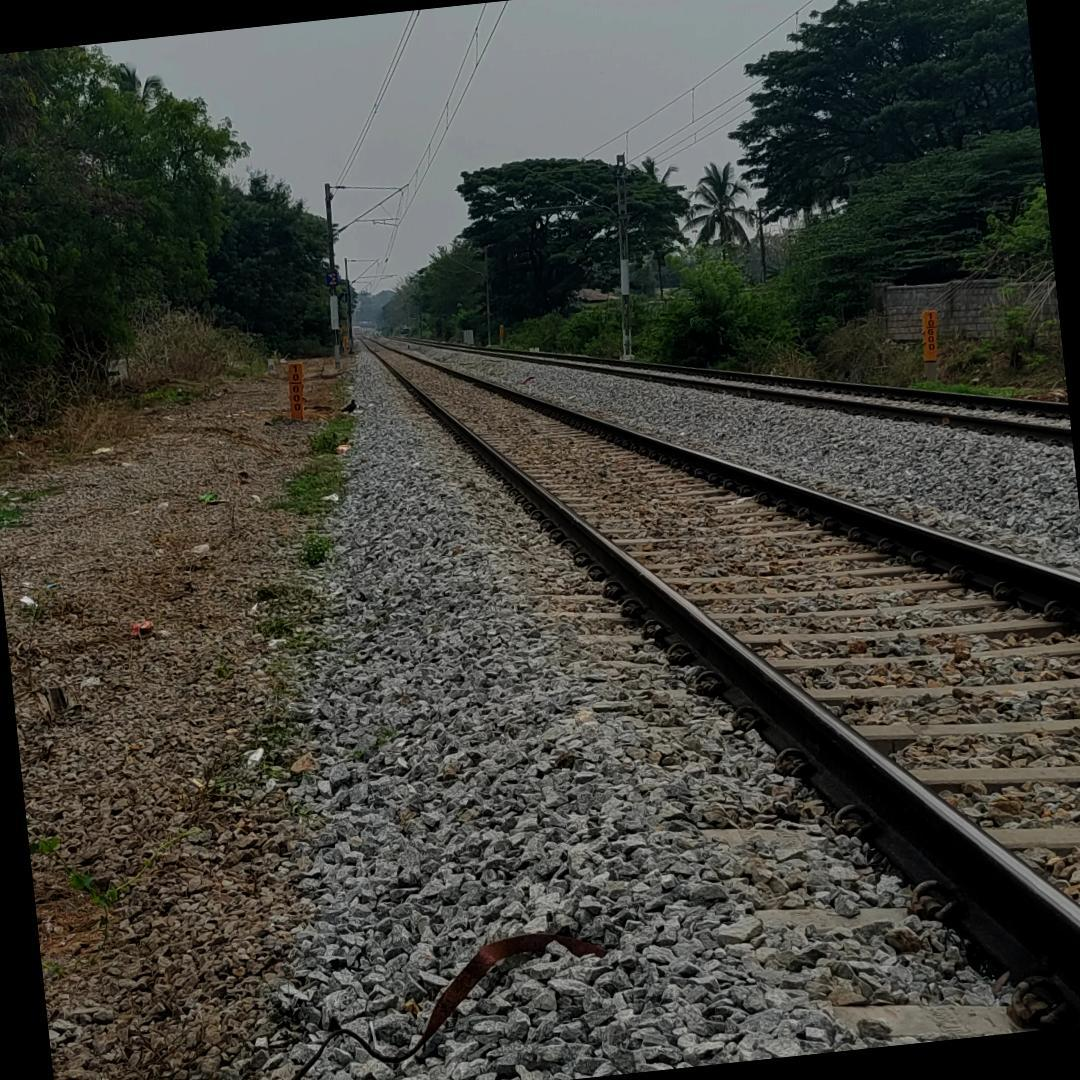track: (357, 332, 1080, 1048)
